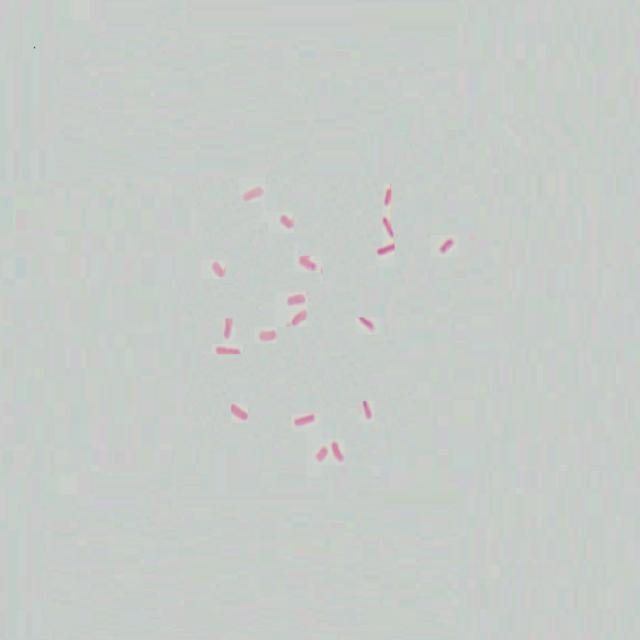E-coli: (227, 398, 250, 425), (209, 253, 229, 283), (434, 234, 457, 259), (297, 249, 318, 273), (289, 311, 312, 331), (240, 181, 263, 200), (373, 241, 402, 256), (218, 312, 233, 341), (214, 345, 241, 361), (277, 210, 294, 235), (358, 394, 373, 421), (256, 328, 278, 345), (381, 214, 395, 240), (357, 311, 375, 330), (295, 413, 316, 429), (330, 436, 343, 460), (313, 442, 326, 464), (285, 292, 305, 305), (381, 183, 393, 204)
